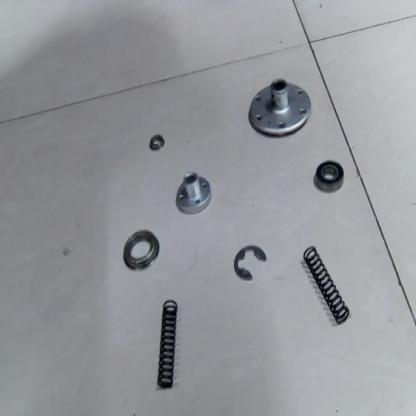FOD: (302, 241, 352, 330), (245, 74, 313, 138), (154, 296, 184, 393), (172, 169, 214, 219), (122, 226, 163, 276), (231, 242, 268, 285), (314, 155, 345, 198), (147, 130, 168, 154)
